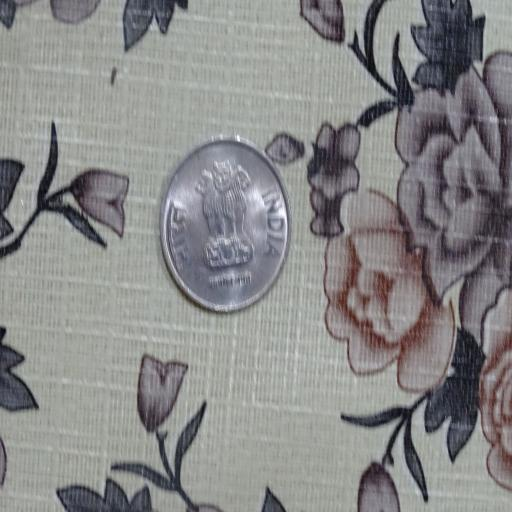rupee1: (158, 138, 293, 315)
